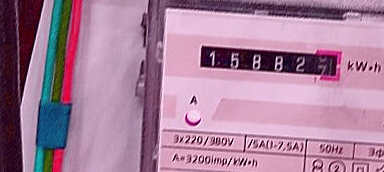1: (205, 46, 216, 65)
2: (292, 53, 305, 72)
5: (226, 49, 239, 67)
7: (314, 62, 326, 74)
8: (247, 50, 261, 68), (270, 52, 283, 71)
screen: (189, 32, 347, 87)
